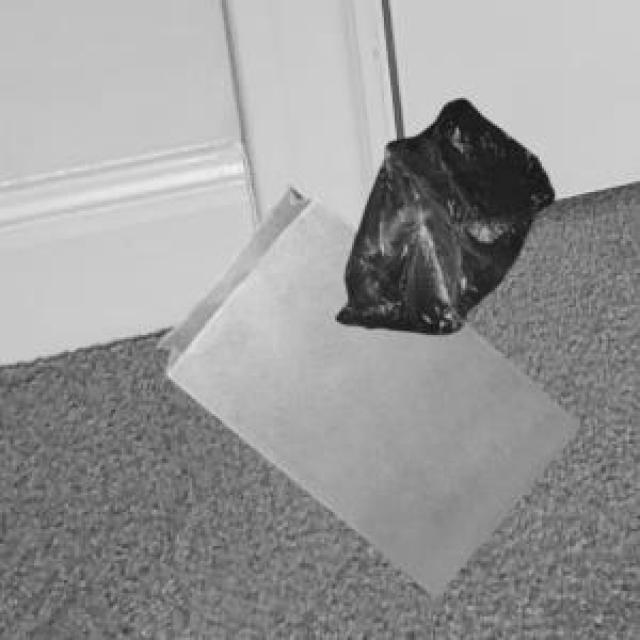paper: (152, 181, 576, 591)
